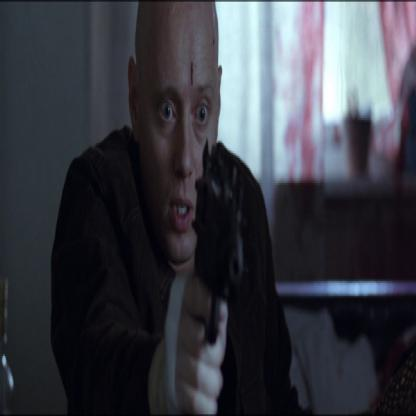Gun: (186, 132, 252, 340)
